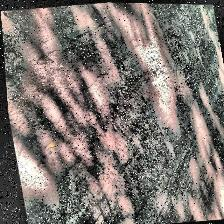pothole: (82, 66, 160, 150)
